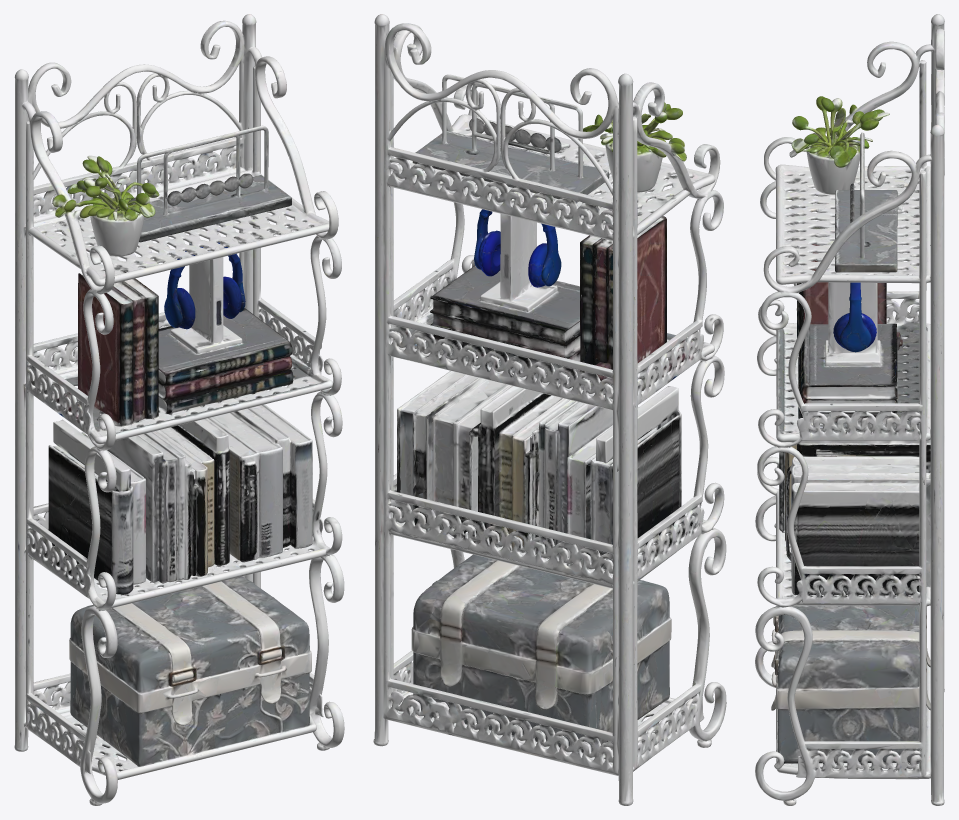
File: regal-01.glb
3 views of the same model, side by side, from view 1: azimuth 30°, elevation 25°; view 2: azimuth 150°, elevation 25°; view 3: azimuth 270°, elevation 25° (orthographic). The views are drawn at different scales.
Size of the model in its own units: 0.7203 by 1.9 by 0.4825.
Materials: 1 (1 with a texture image).
